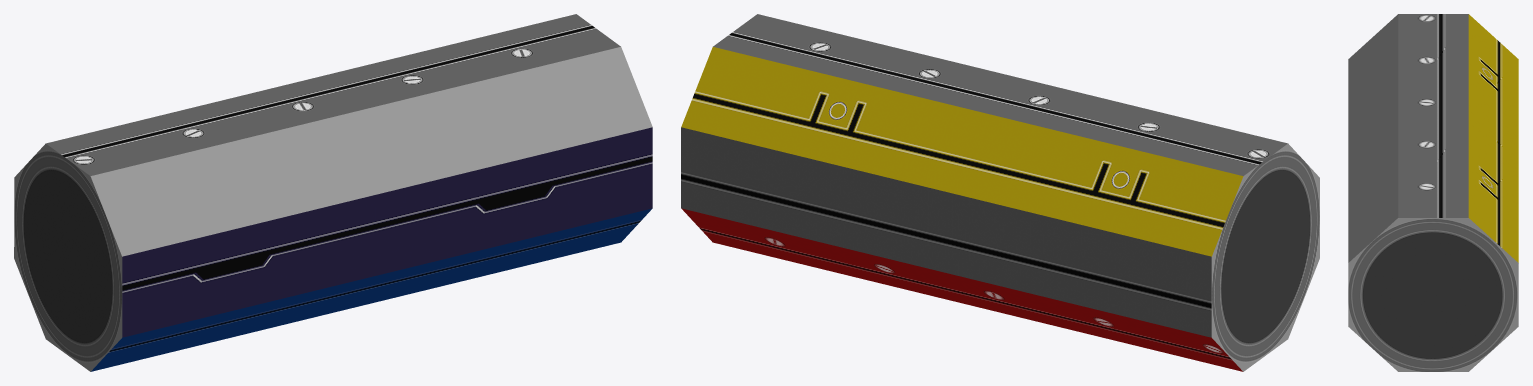
Rendered from textures.fbx.
The picture shows the model from 3 angles, left to right: view 1: azimuth 30°, elevation 25°; view 2: azimuth 150°, elevation 25°; view 3: azimuth 270°, elevation 25°; orthographic projection. The views are drawn at different scales.
Visible parts, largest first — view 1: textures; view 2: textures; view 3: textures.
Boxes of the visible parts, x1,y1,x2,y2 form: textures: (14,14,652,371); textures: (681,14,1319,371); textures: (1348,14,1518,371).
Bounding box in the file's own units: 39.14 × 13.8 × 13.8.
